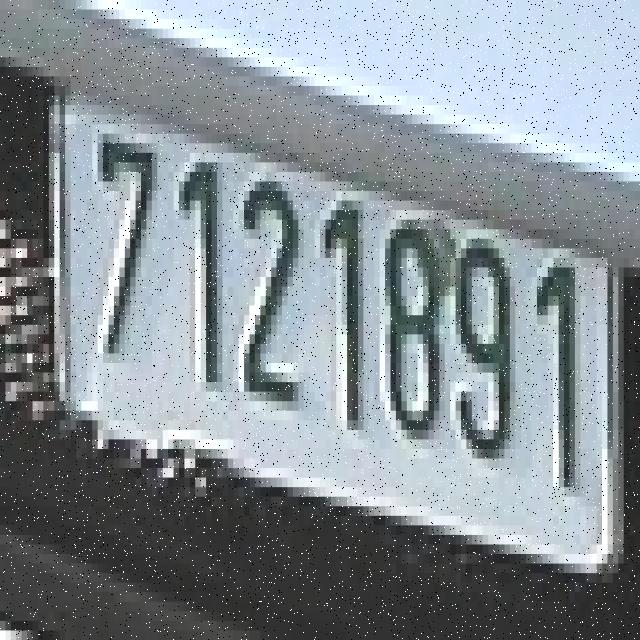licenseplate: (50, 70, 620, 590)
